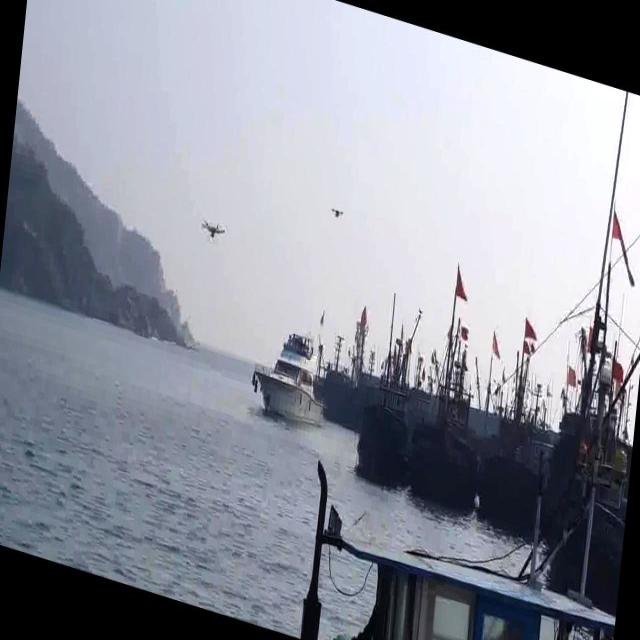drone: (198, 210, 228, 248), (330, 196, 346, 223)
